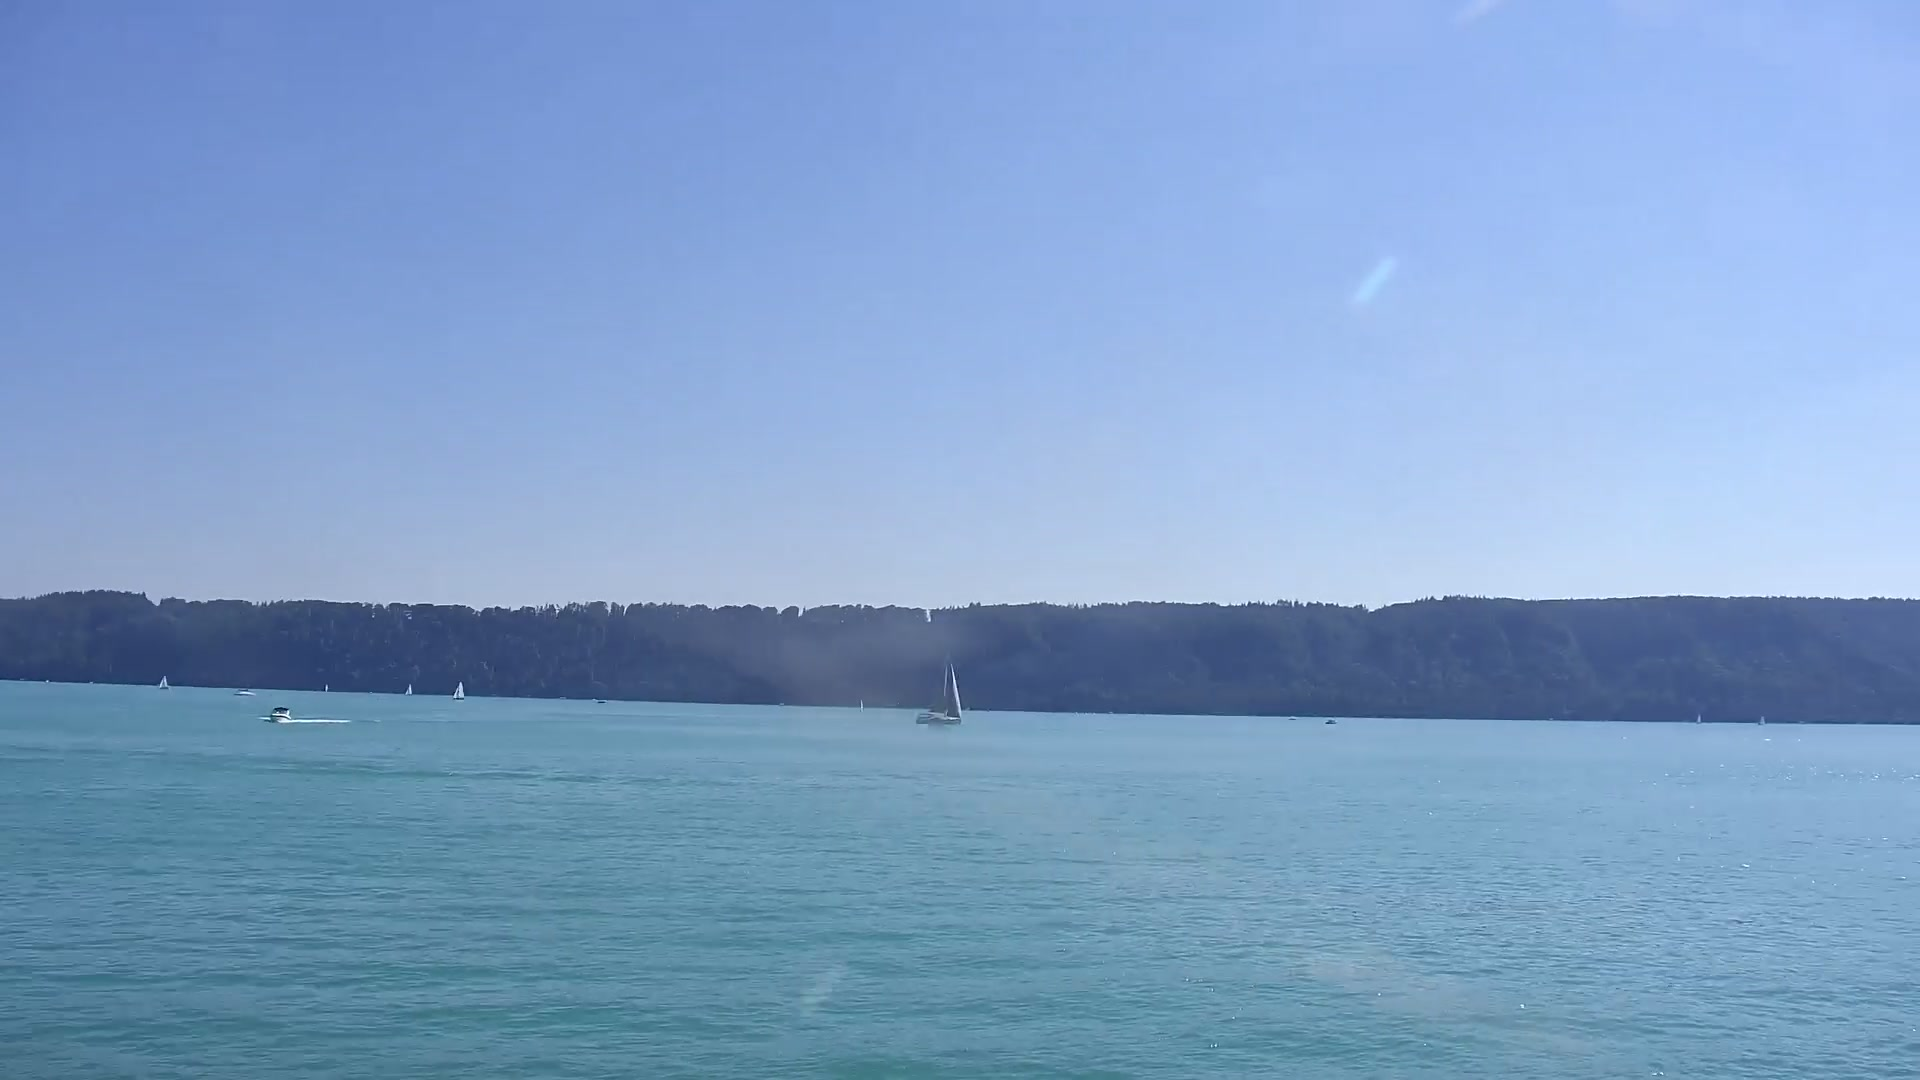sea: (914, 659, 963, 727), (270, 705, 291, 723), (452, 680, 465, 702), (235, 687, 252, 698), (158, 674, 169, 690), (404, 682, 413, 698), (1758, 715, 1767, 727), (322, 683, 330, 696), (858, 698, 865, 713), (1325, 717, 1337, 725), (1695, 713, 1702, 725), (1287, 713, 1298, 721)
